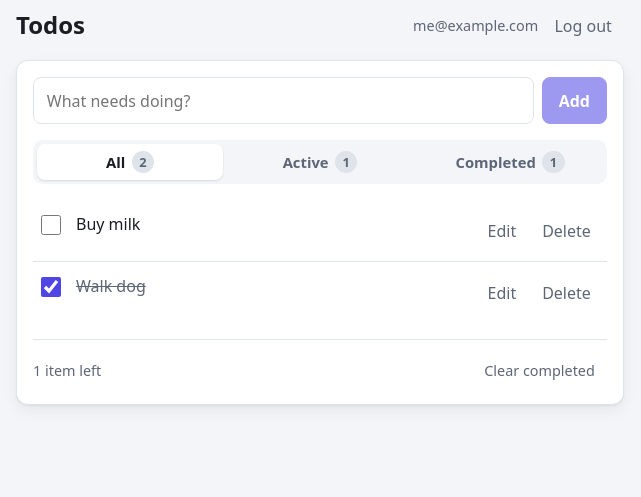
Test case: TodosPage › rolls the checkbox back and shows an error when the server rejects the change
What coordinates should you click on to do the following:
click the checkbox named "Buy milk"
I would click on:
 (51, 225)
Its box is [41,215,61,235].
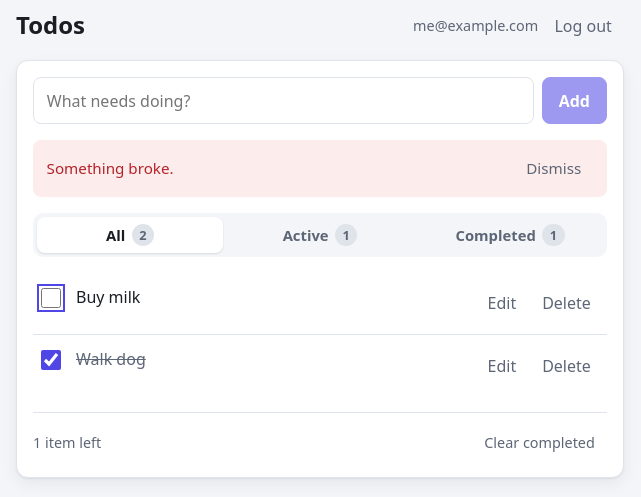
Check: the checkbox named "Buy milk" is not checked, box [41,288,61,308]
Check: the message shows "Something broke.", box [47,158,174,178]
What coordinates should you click on to do the following:
click the button "Dismiss"
I would click on:
 (554, 168)
Its box is [514,150,593,186].
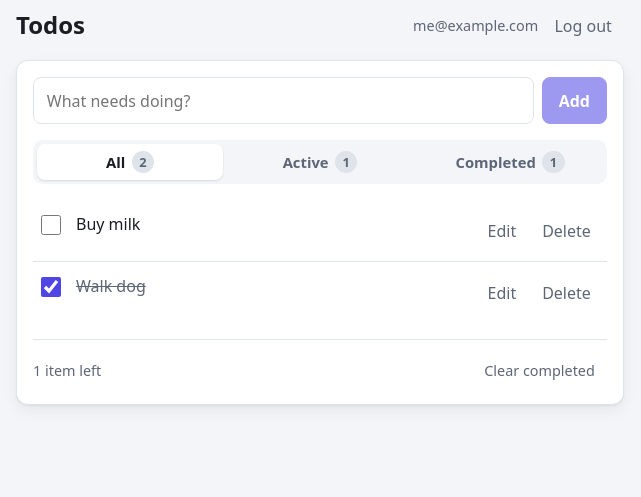
Check: the message "Something broke. Dismiss" is gone
